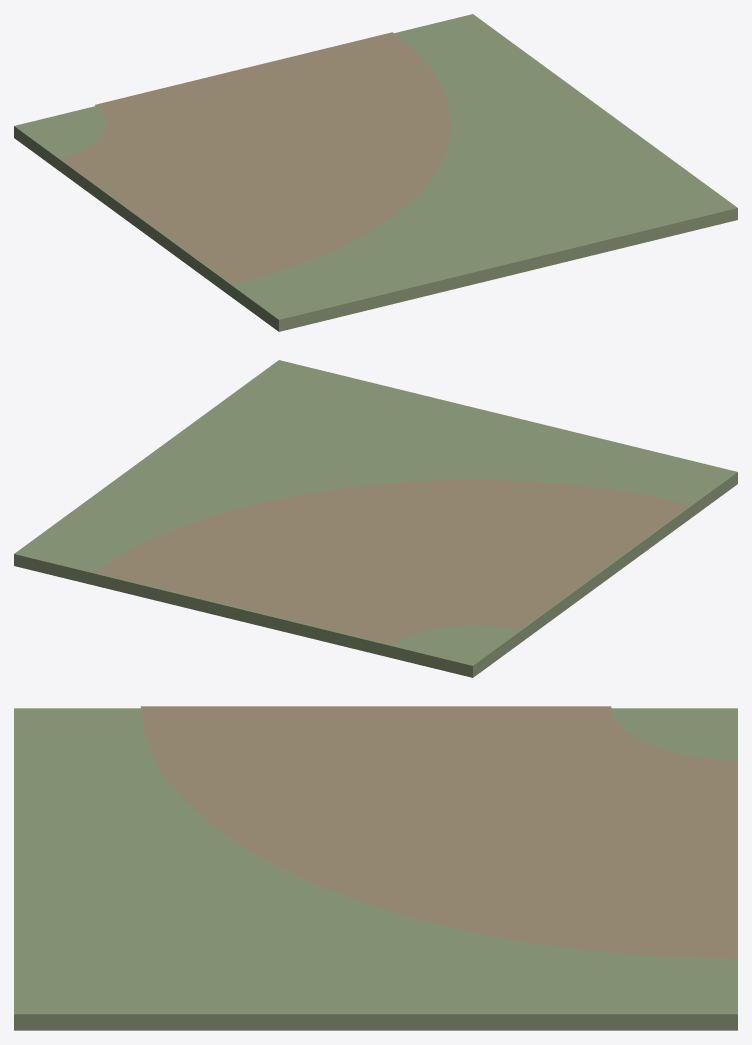
Rendered from road_dirt_corner.glb.
3 views of the same model, one above another, from view 1: azimuth 30°, elevation 25°; view 2: azimuth 150°, elevation 25°; view 3: azimuth 270°, elevation 25° (orthographic). The views are drawn at different scales.
Visible parts, largest first — view 1: road_dirt_corner; view 2: road_dirt_corner; view 3: road_dirt_corner.
Boxes of the visible parts, x1,y1,x2,y2 form: road_dirt_corner: (14,14,737,331); road_dirt_corner: (14,360,737,677); road_dirt_corner: (14,706,737,1030).
Size of the model in its own units: 4 by 0.112 by 4.
